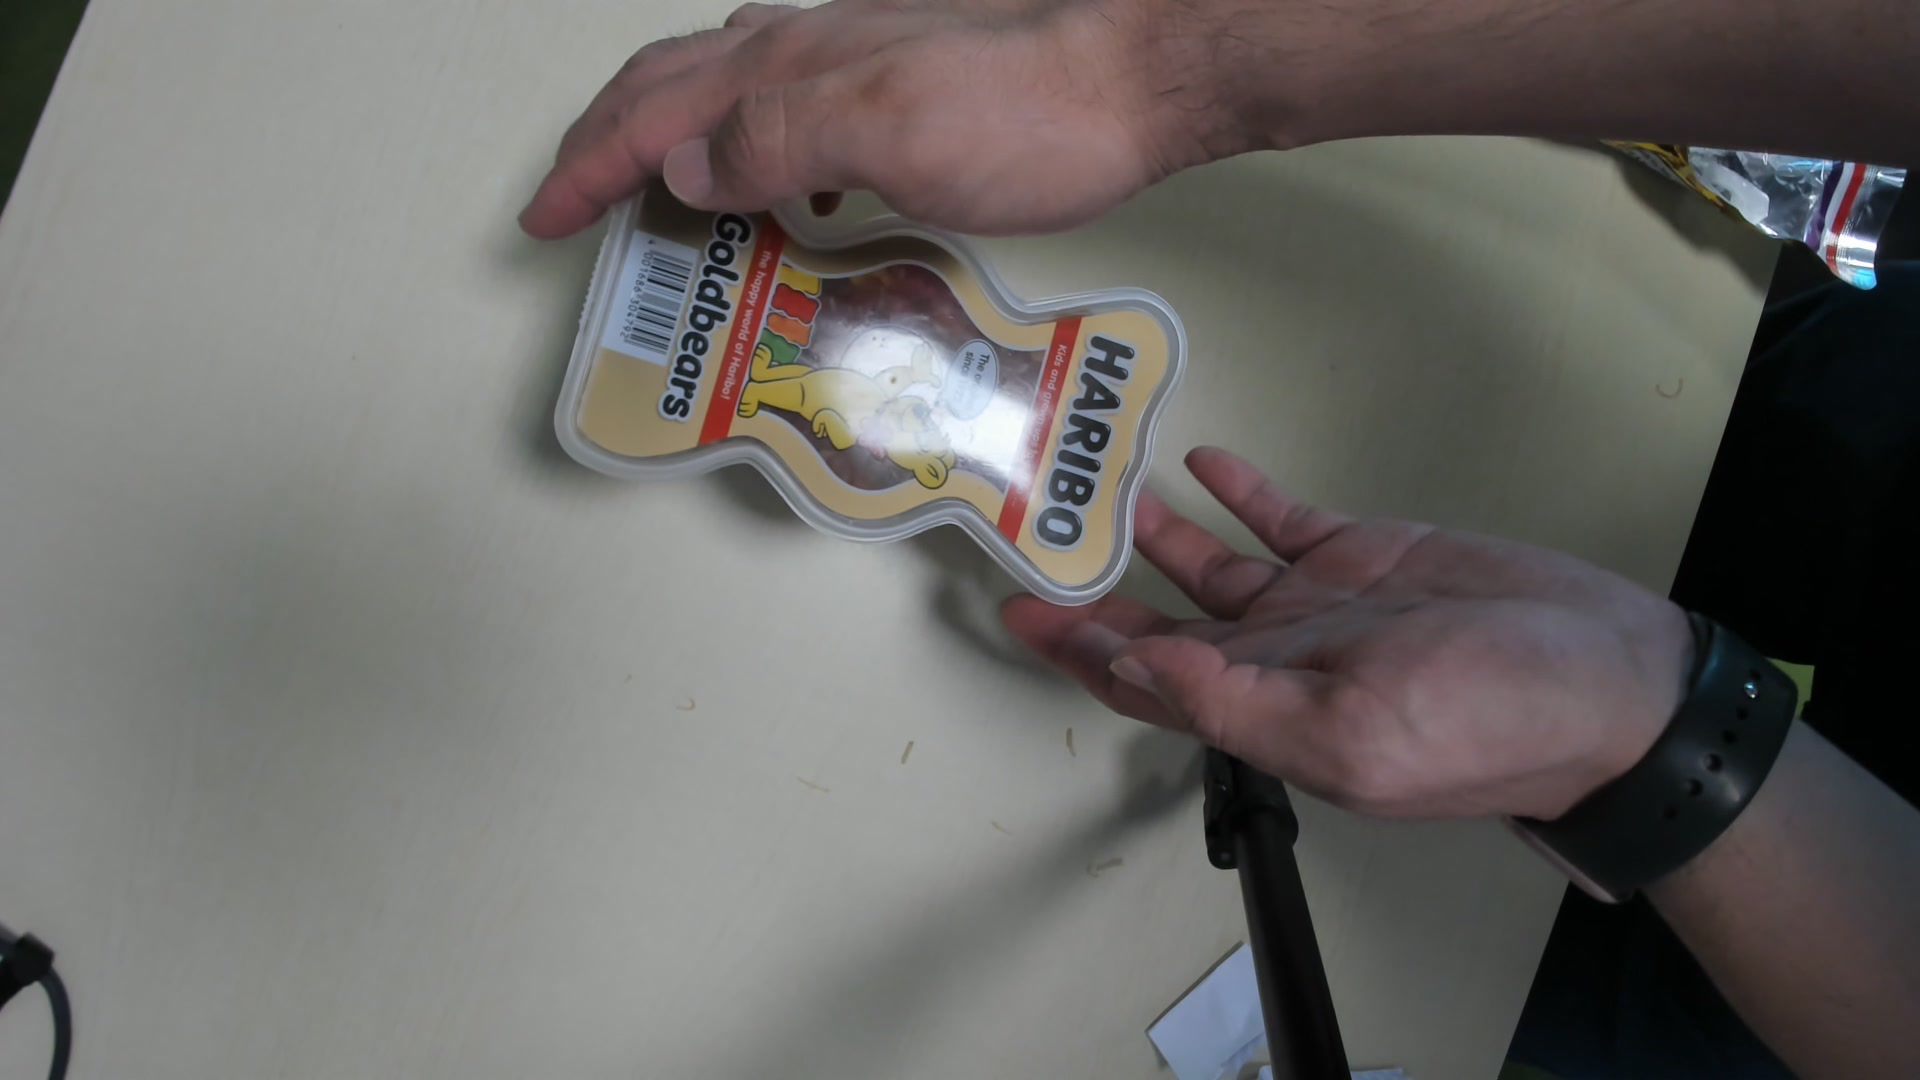SweetsChocolatesOthers_400-499g_NonHalal_Nonhealthy: (560, 189, 1182, 616)
